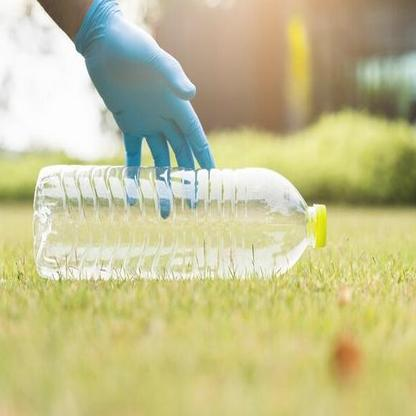plastic bottle: (31, 162, 329, 278)
